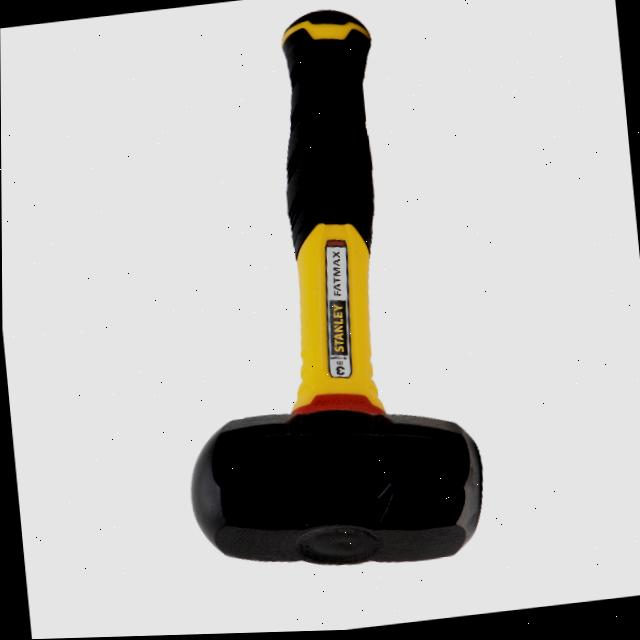hammer: (138, 0, 501, 599)
